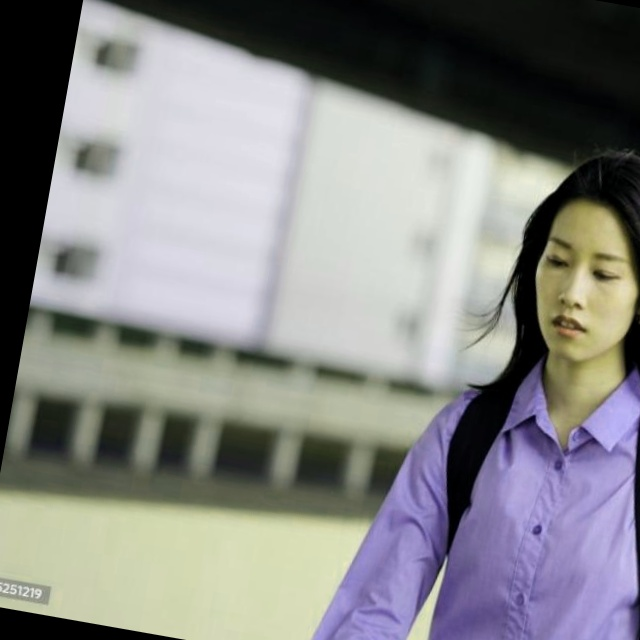Sin_Casco_Mascarrilla: (510, 134, 640, 372)
Sin_Chaleco: (395, 344, 640, 640)
